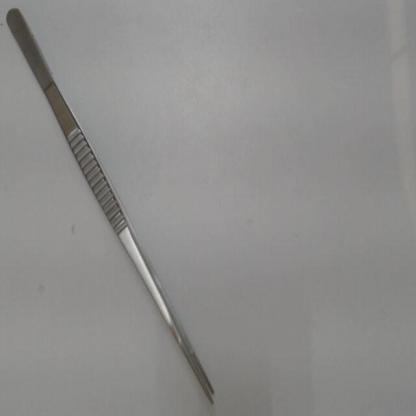DeBakey Dissector: (6, 8, 229, 412)
